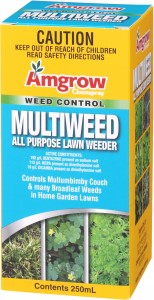oxalis: (47, 217, 86, 282)
